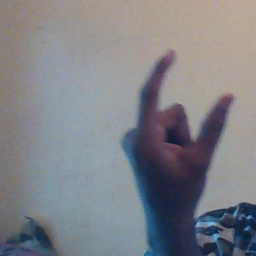U: (118, 46, 238, 204)
